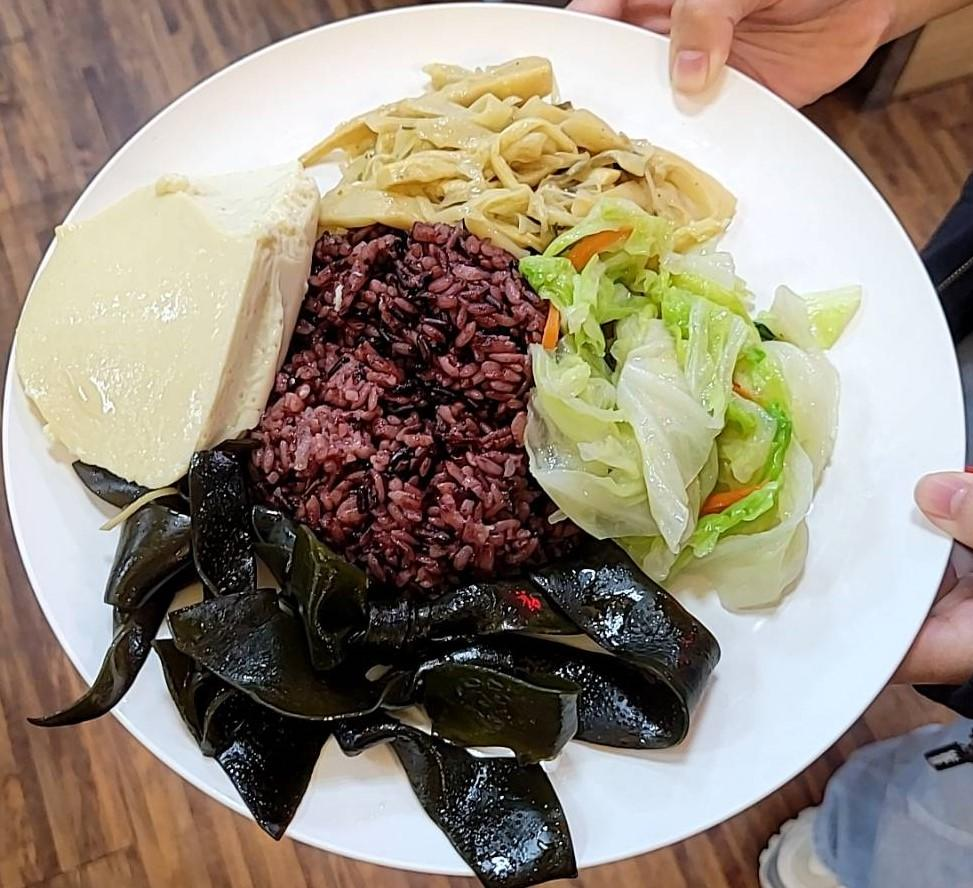big fried chicken leg: (2, 18, 973, 888)
braised fish: (262, 228, 548, 584)
braised fish fillet: (60, 448, 718, 883), (526, 214, 851, 604), (14, 170, 321, 473), (299, 62, 734, 248)
